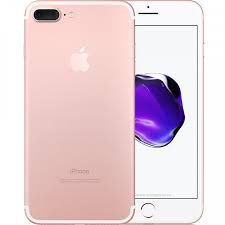iphone: (21, 1, 137, 225)
